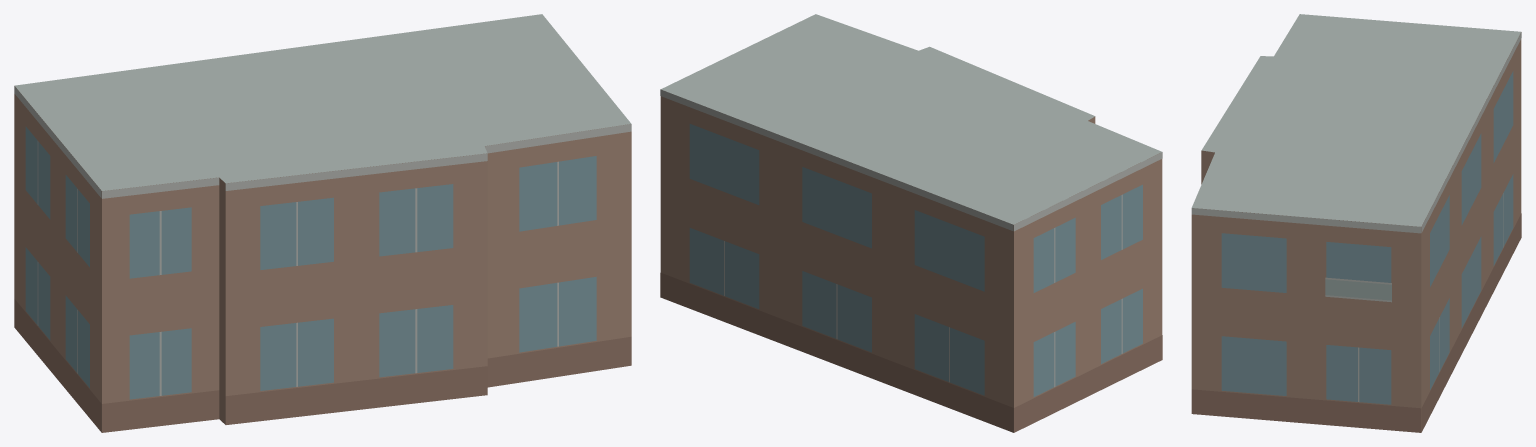
Rendered from survey-upis-32868613.glb.
The picture shows the model from 3 angles, left to right: view 1: azimuth 30°, elevation 25°; view 2: azimuth 150°, elevation 25°; view 3: azimuth 270°, elevation 25°; orthographic projection. The views are drawn at different scales.
Visible parts, largest first — view 1: survey-upis-32868613.tmp; view 2: survey-upis-32868613.tmp; view 3: survey-upis-32868613.tmp.
Part boxes in pixels (x1=…): survey-upis-32868613.tmp: x1=14, y1=14, x2=631, y2=432; survey-upis-32868613.tmp: x1=660, y1=14, x2=1162, y2=432; survey-upis-32868613.tmp: x1=1191, y1=14, x2=1521, y2=432.
Size of the model in its own units: 16.85 by 7.6 by 11.04.
